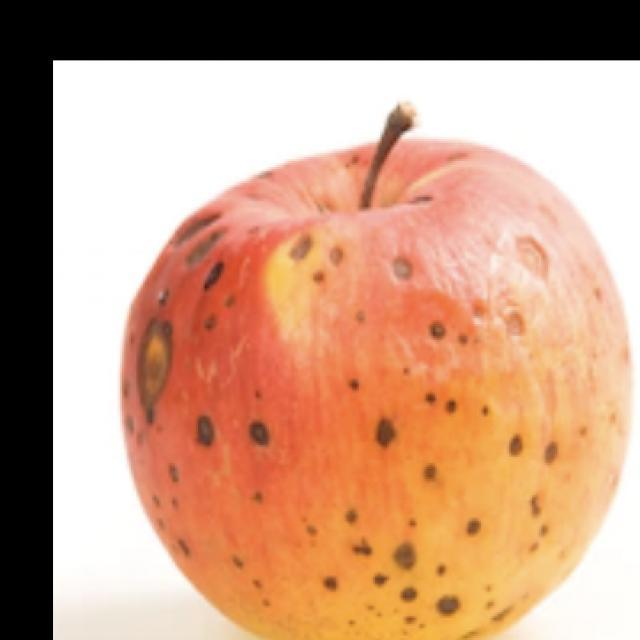Rotten: (125, 135, 628, 640)
